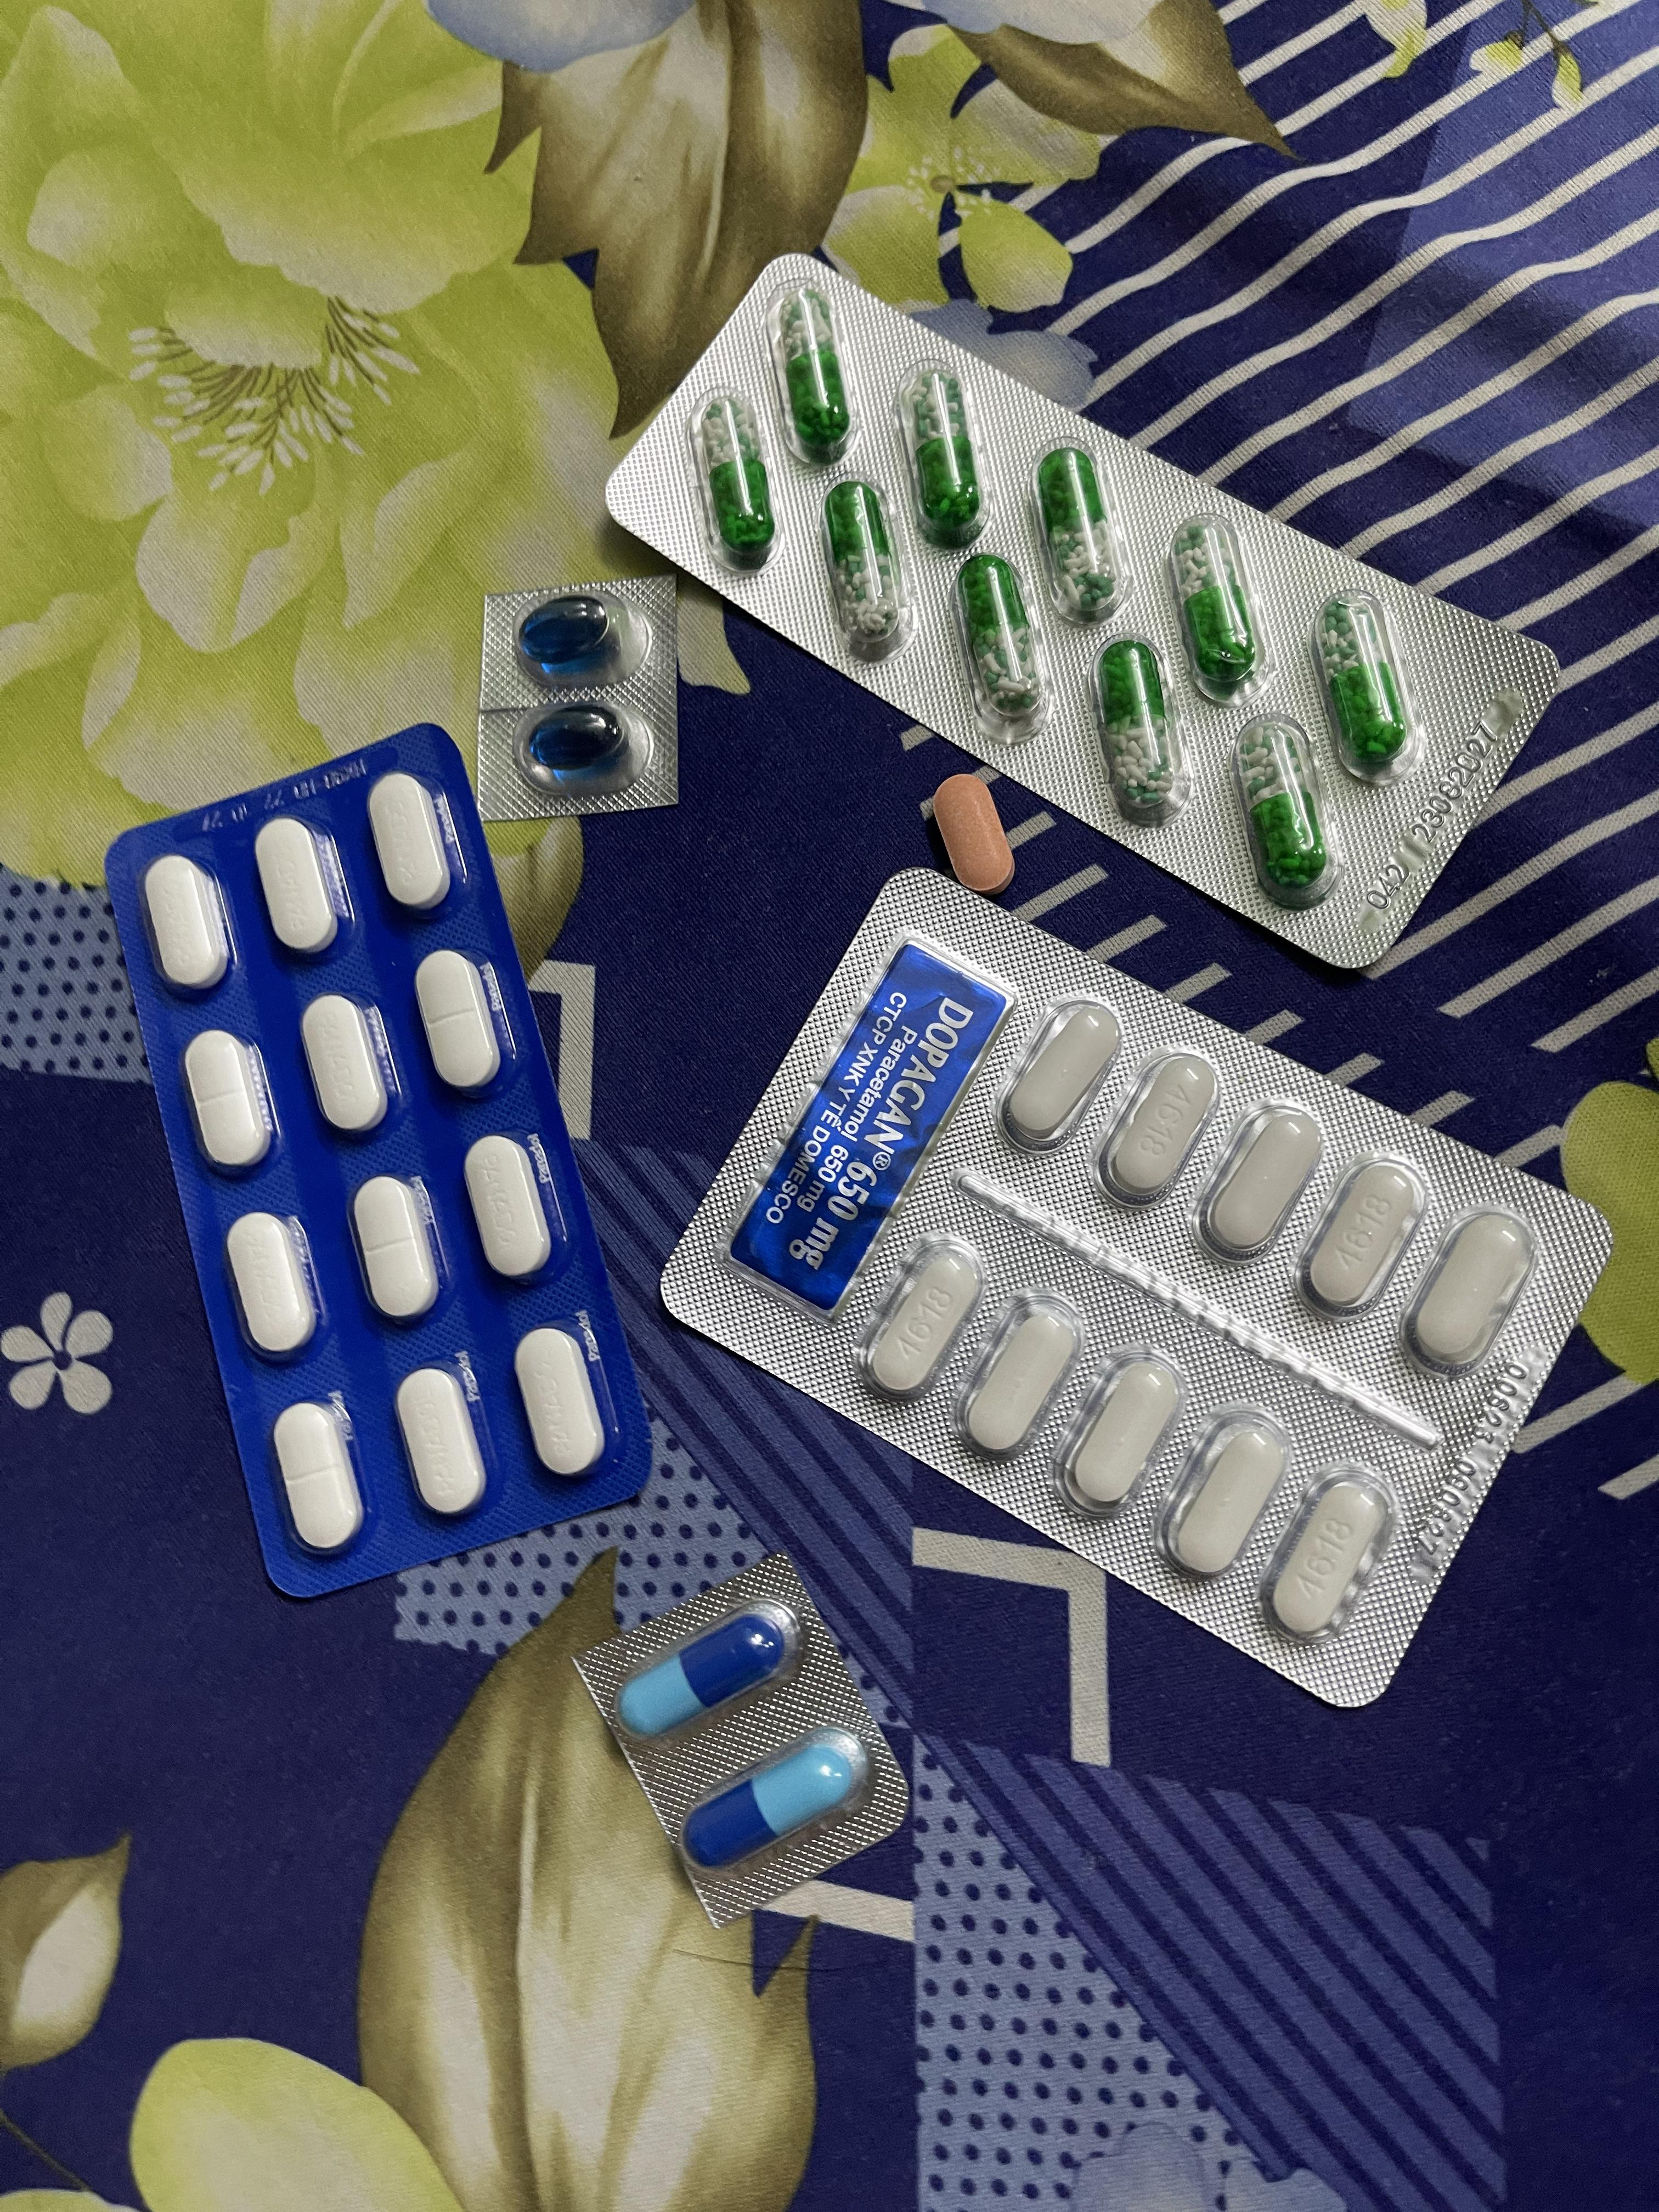Lincomyxin_500mg: (519, 597, 615, 667), (526, 707, 624, 772)
Loratadine_10mg: (932, 773, 1014, 895)
Paracetamol_350mg: (516, 1324, 610, 1479), (272, 1400, 364, 1554), (225, 1211, 319, 1359), (396, 1367, 488, 1517), (350, 1174, 441, 1320), (465, 1136, 556, 1280), (301, 993, 392, 1136), (415, 949, 504, 1092), (183, 1029, 272, 1172), (143, 855, 230, 991), (254, 819, 342, 951), (368, 775, 455, 907)
Paracetamol_500mg: (1256, 1461, 1403, 1646), (1399, 1204, 1539, 1378), (1295, 1151, 1431, 1320), (951, 1285, 1080, 1460), (1192, 1101, 1324, 1268), (857, 1233, 986, 1402), (1094, 1050, 1220, 1211), (995, 996, 1119, 1148), (1063, 1353, 1178, 1505), (1169, 1421, 1283, 1575)
Paracetamol_650mg: (1171, 514, 1269, 698), (951, 552, 1046, 740), (897, 357, 985, 550), (1234, 711, 1324, 890), (823, 479, 911, 660), (1033, 446, 1121, 618), (1100, 648, 1180, 826), (1319, 604, 1406, 761), (777, 289, 847, 456), (699, 399, 772, 552)
pill: (687, 1730, 859, 1871), (617, 1608, 795, 1738)
